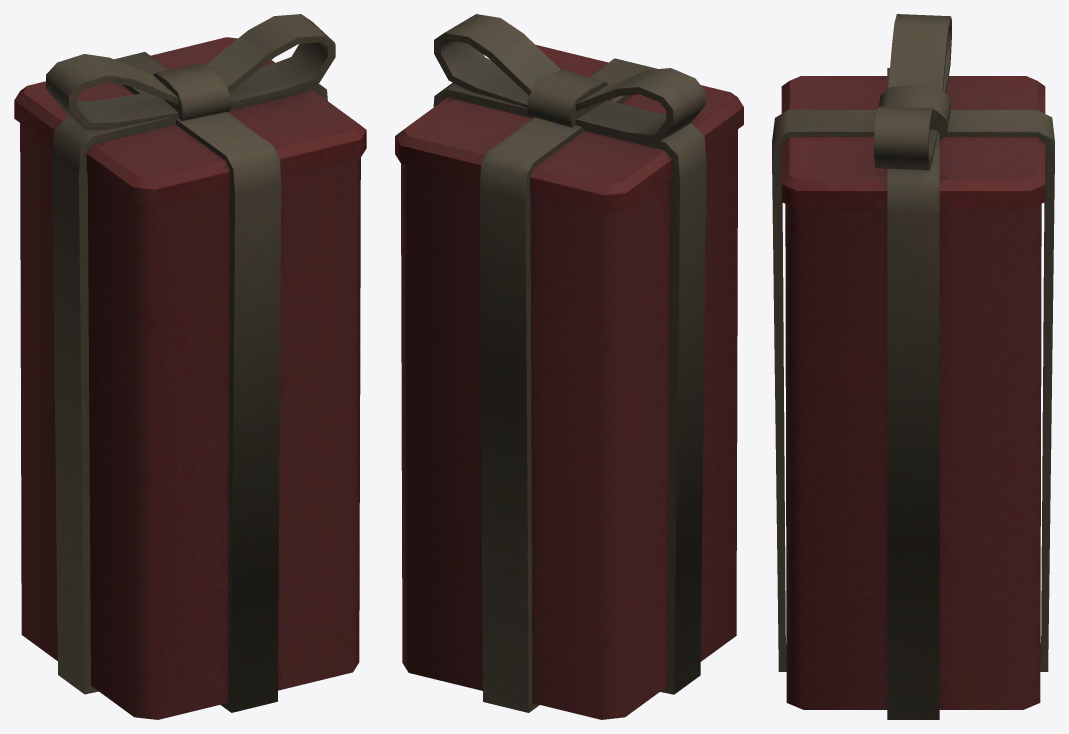
File: present_tall.glb
3 renders of one model, left to right at view 1: azimuth 30°, elevation 25°; view 2: azimuth 150°, elevation 25°; view 3: azimuth 270°, elevation 25°, orthographic. The views are drawn at different scales.
Visible parts, largest first — view 1: present_tall; view 2: present_tall; view 3: present_tall.
Boxes of the visible parts, <box> form: present_tall: <box>14,14,366,719</box>; present_tall: <box>395,14,743,719</box>; present_tall: <box>772,14,1054,719</box>.
Size of the model in its own units: 0.7059 by 1.6 by 0.6832.
Materials: 1 (1 with a texture image).
